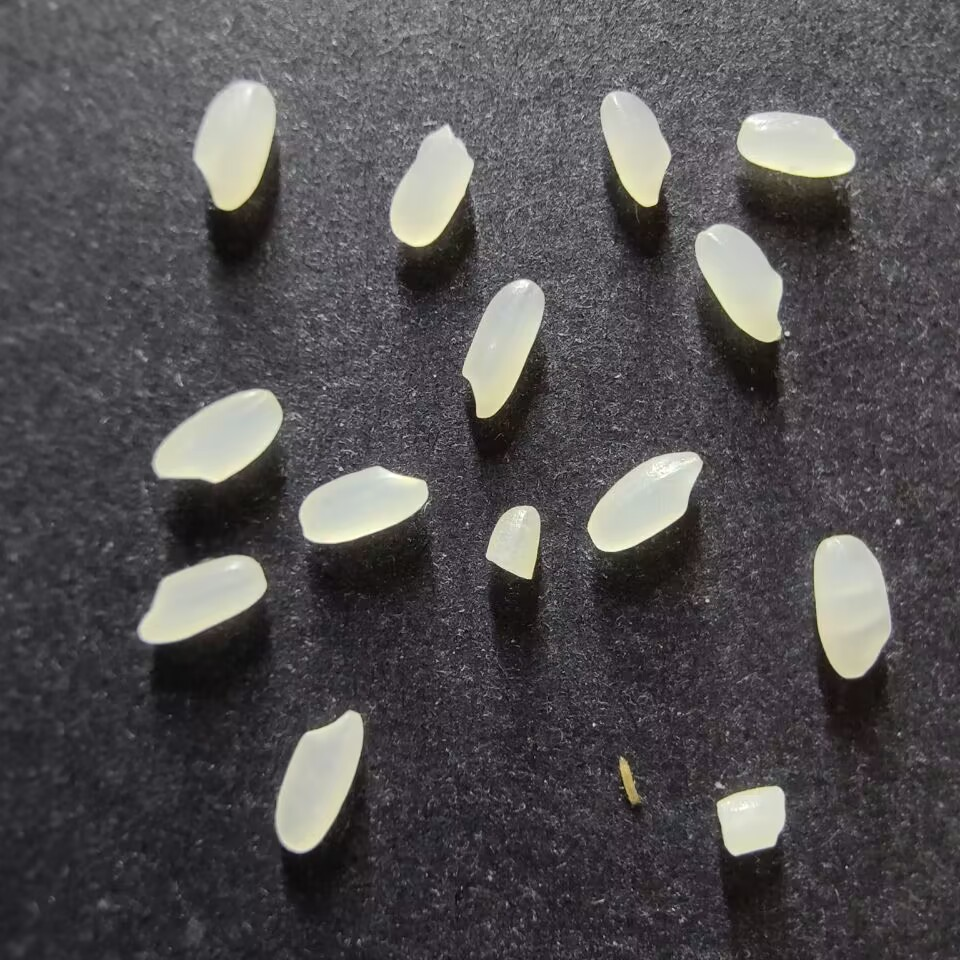broken: (714, 782, 789, 856), (482, 504, 544, 582)
others: (612, 753, 647, 809)
rice: (273, 707, 367, 854), (150, 386, 285, 485), (585, 448, 704, 553), (459, 277, 546, 419), (811, 533, 894, 681), (135, 553, 268, 645), (190, 77, 277, 212), (692, 221, 786, 344), (387, 124, 477, 248), (297, 464, 431, 544), (597, 89, 674, 208), (735, 109, 857, 178)
